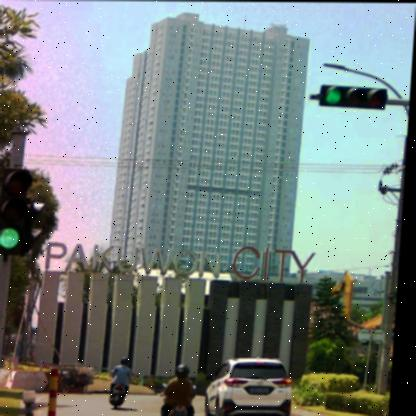Traffic Light -Green-: (0, 168, 31, 257), (320, 84, 390, 110)
